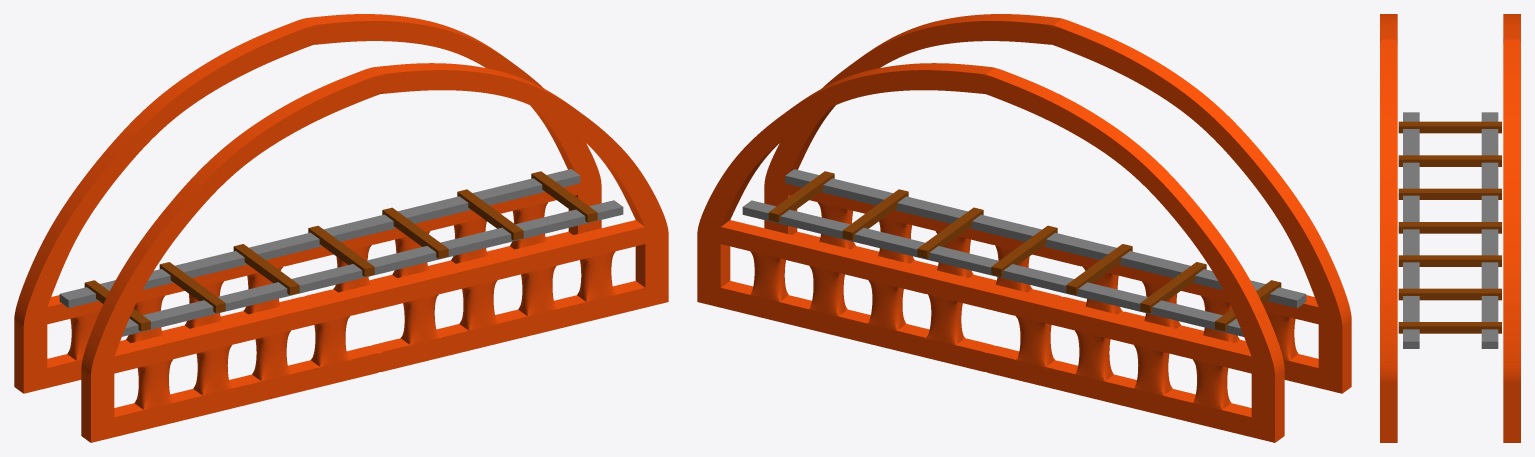
File: Track and bridge.fbx
3 renders of one model, left to right at view 1: azimuth 30°, elevation 25°; view 2: azimuth 150°, elevation 25°; view 3: azimuth 270°, elevation 25°, orthographic. The views are drawn at different scales.
Visible parts, largest first — view 1: Cube.009, Cube.013, Cube, Cube.002, Cube.004, Cube.001, Cube.003, Cube.005, Cube.007, Cube.008; view 2: Cube.013, Cube.009, Cube.002, Cube, Cube.001, Cube.003, Cube.004, Cube.005, Cube.007, Cube.008; view 3: Cube.009, Cube.013, Cube.002, Cube, Cube.004, Cube.006, Cube.001, Cube.003, Cube.005, Cube.007, Cube.008.
Boxes of the visible parts, x1,y1,x2,y2 form: Cube.009: (81,63,668,442); Cube.013: (14,14,601,393); Cube: (122,200,623,336); Cube.002: (59,169,580,307); Cube.004: (457,189,523,240); Cube.001: (308,225,374,276); Cube.003: (382,207,448,258); Cube.005: (531,171,597,222); Cube.007: (159,262,225,313); Cube.008: (233,244,299,295); Cube.013: (697,63,1284,442); Cube.009: (764,14,1351,393); Cube.002: (742,200,1243,336); Cube: (785,169,1306,308); Cube.001: (991,225,1057,276); Cube.003: (917,207,983,258); Cube.004: (842,189,908,240); Cube.005: (768,171,834,222); Cube.007: (1140,262,1206,312); Cube.008: (1066,244,1132,294); Cube.009: (1380,14,1397,442); Cube.013: (1503,14,1520,442); Cube.002: (1481,112,1498,348); Cube: (1403,112,1419,348); Cube.004: (1398,288,1501,300); Cube.006: (1398,121,1501,133); Cube.001: (1398,222,1501,233); Cube.003: (1398,255,1501,266); Cube.005: (1398,322,1501,333); Cube.007: (1398,155,1501,166); Cube.008: (1398,188,1501,199).
Size of the model in its own units: 4680 by 2306 by 1075.
